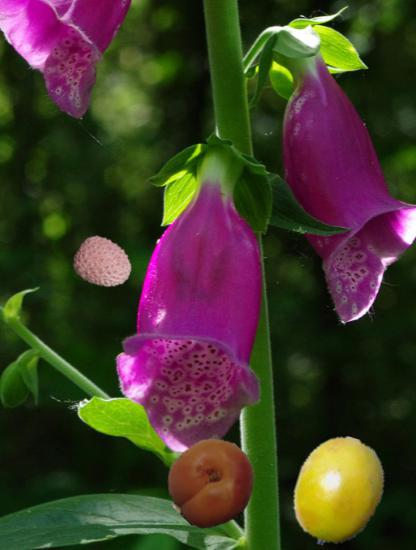Apricot: (168, 439, 257, 528)
Lychee: (74, 234, 134, 294)
Maracuja: (283, 436, 396, 549)
